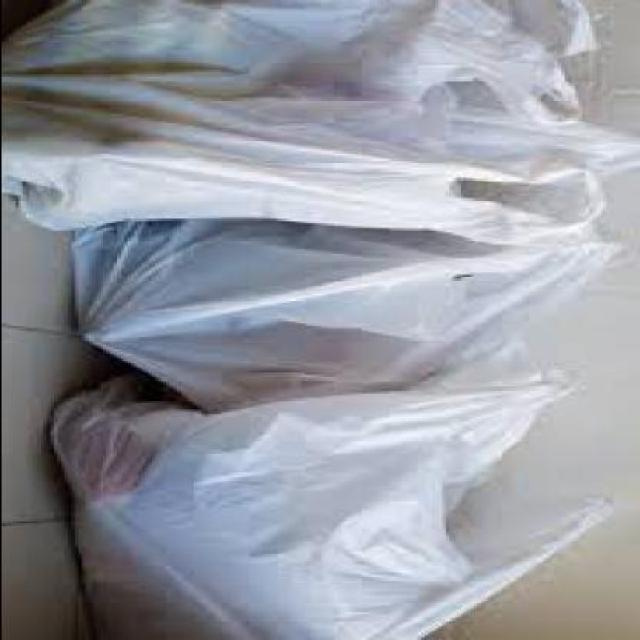PLASTIC: (51, 372, 615, 638), (3, 2, 594, 247), (63, 218, 623, 418), (451, 105, 638, 186)
